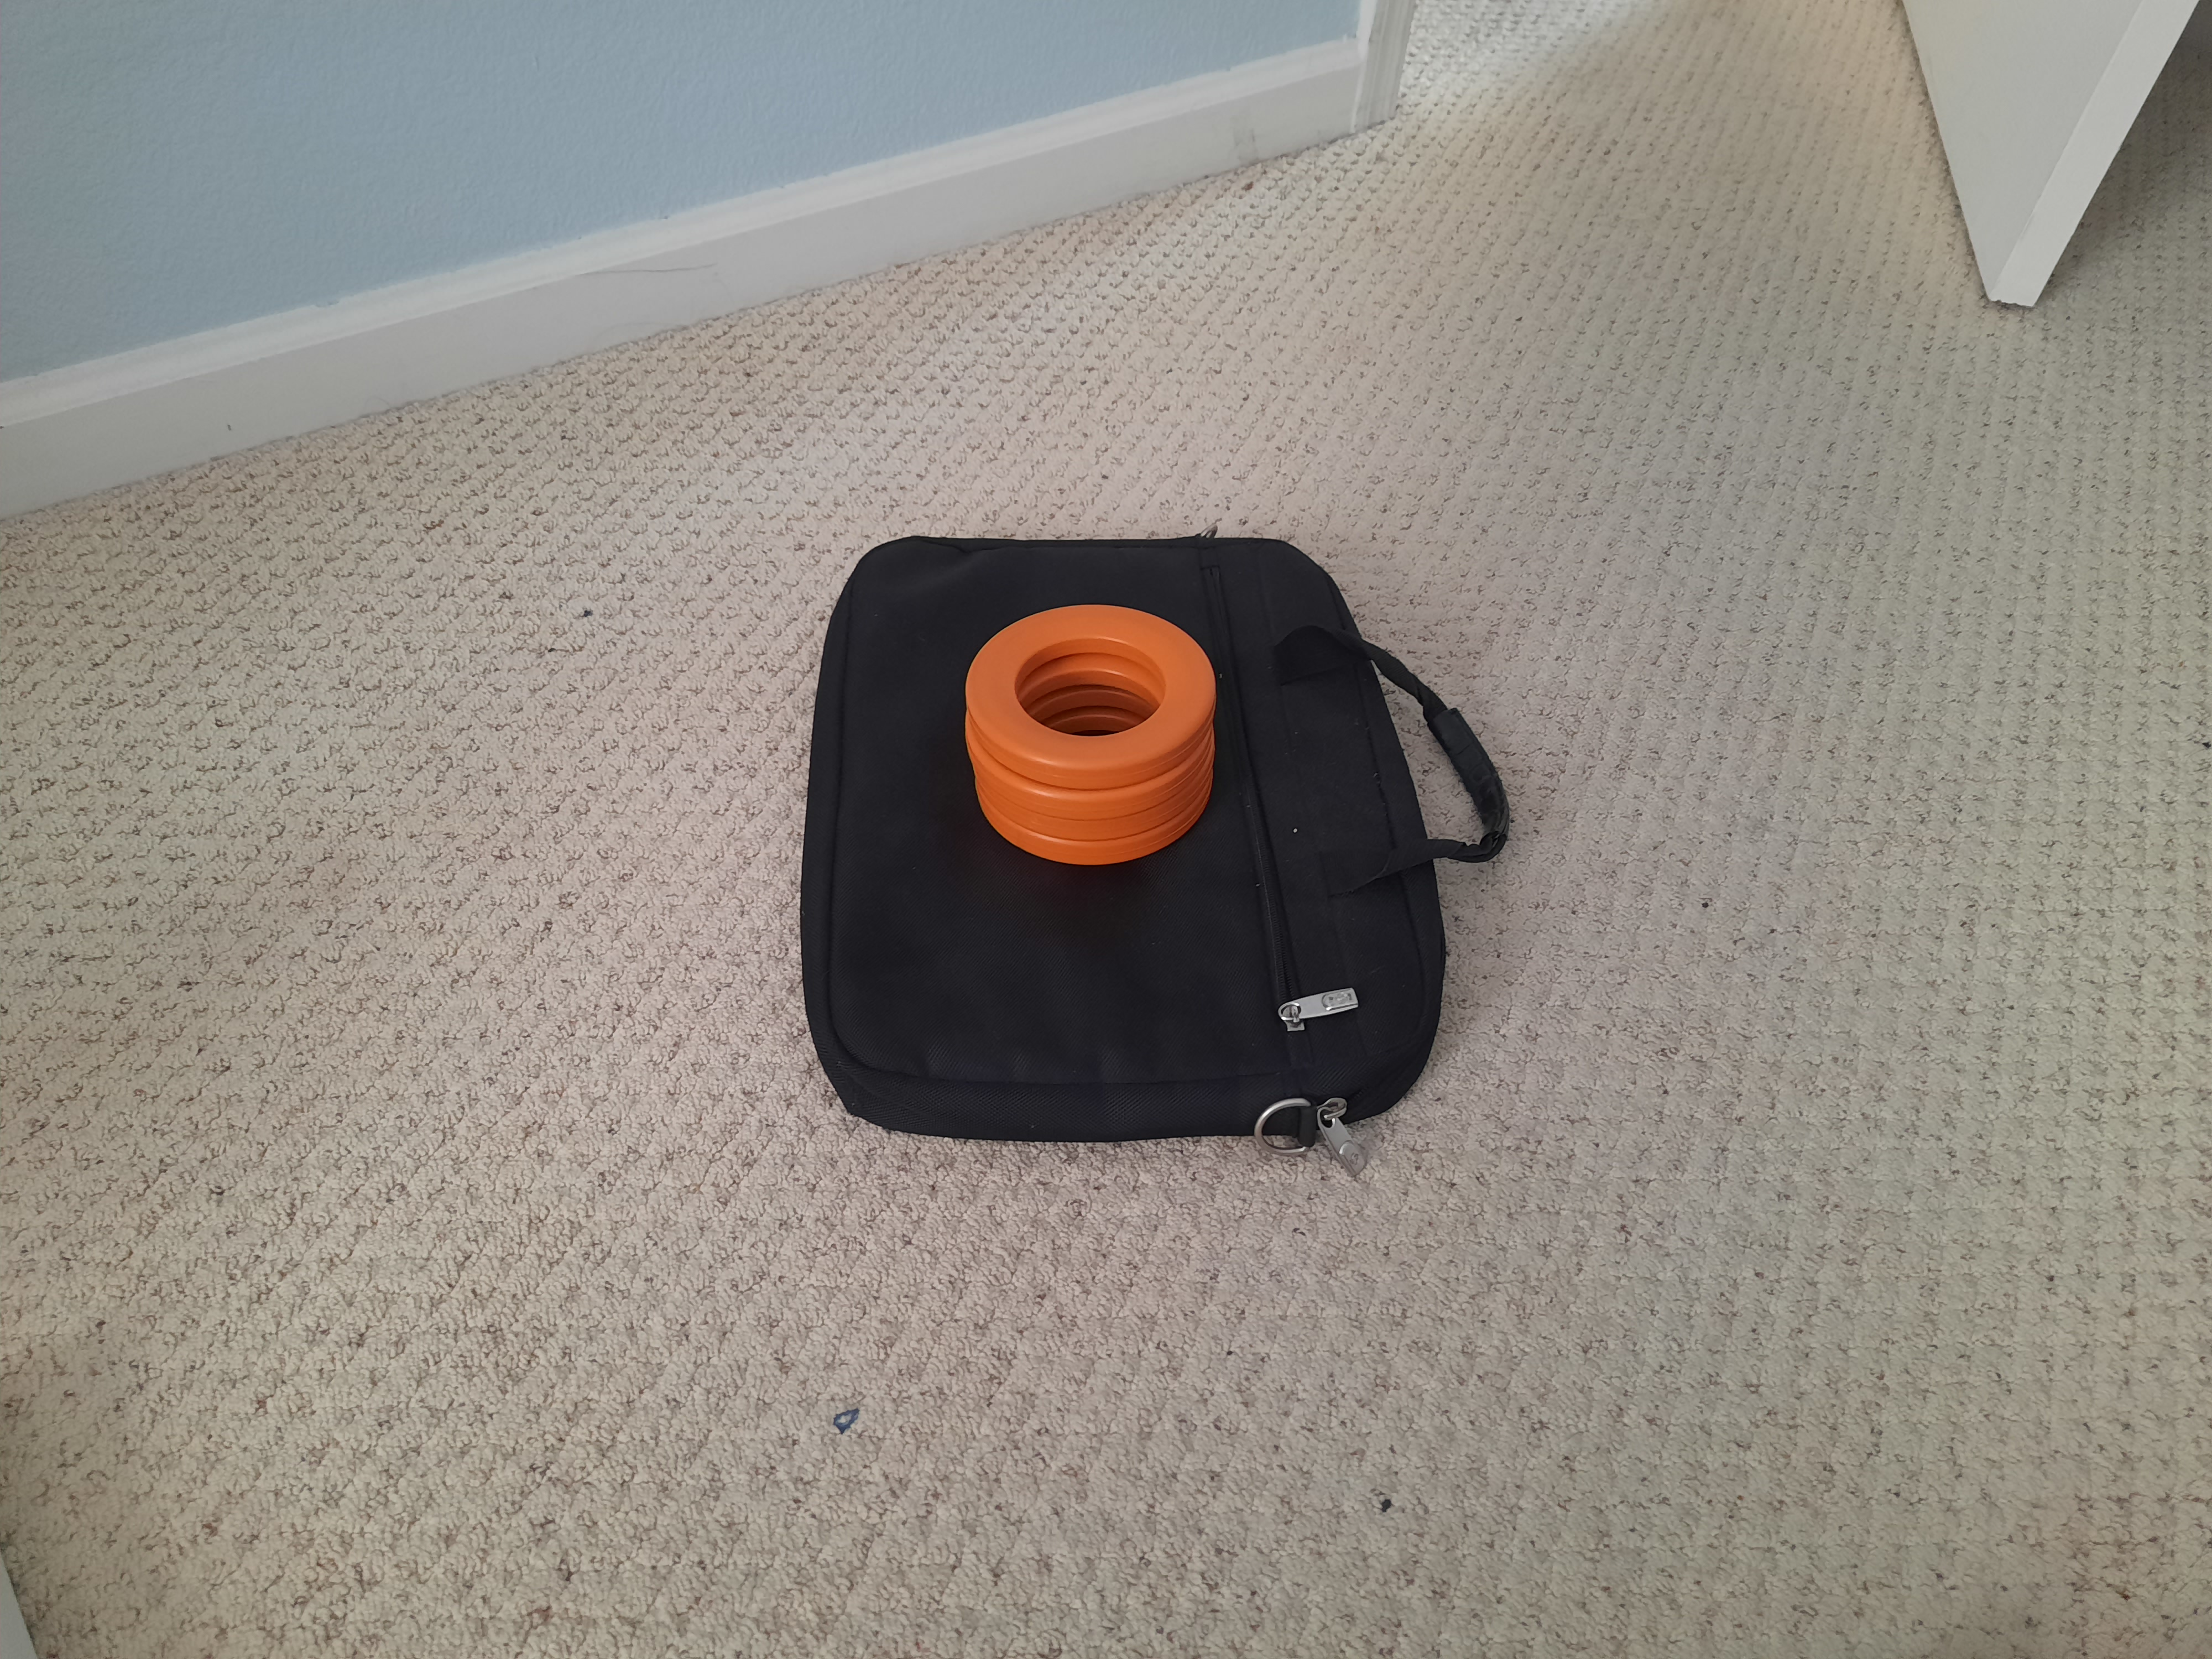FourStack: (967, 608, 1216, 866)
